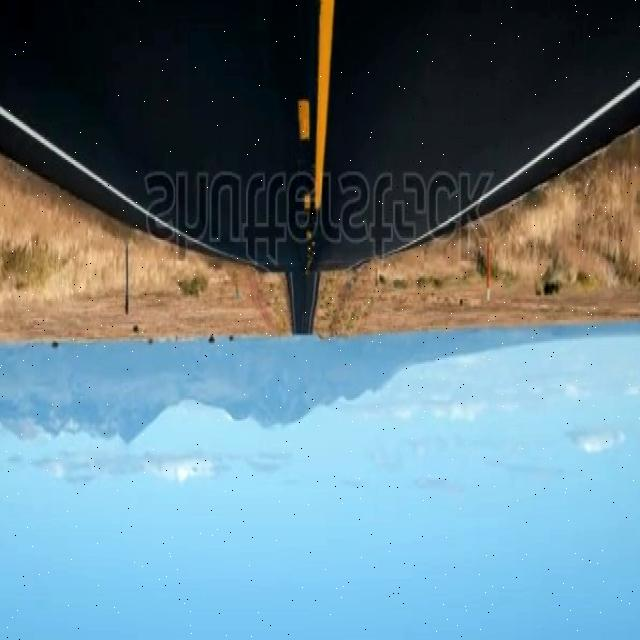lane: (315, 2, 334, 211), (297, 101, 308, 141)
road: (0, 4, 639, 335)
